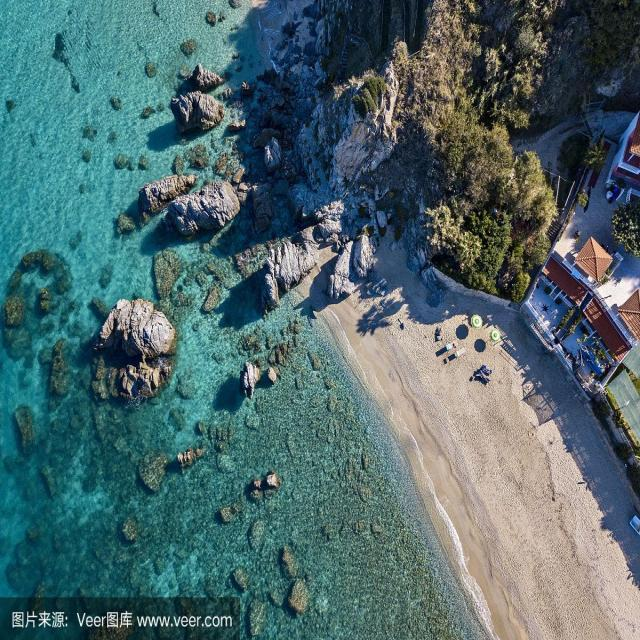reef: (68, 268, 155, 379), (7, 245, 88, 354), (121, 146, 237, 222), (164, 57, 245, 137), (250, 216, 292, 330), (0, 390, 62, 467), (252, 556, 324, 606), (138, 434, 195, 482), (218, 482, 258, 542), (244, 474, 282, 507), (120, 518, 162, 546)
